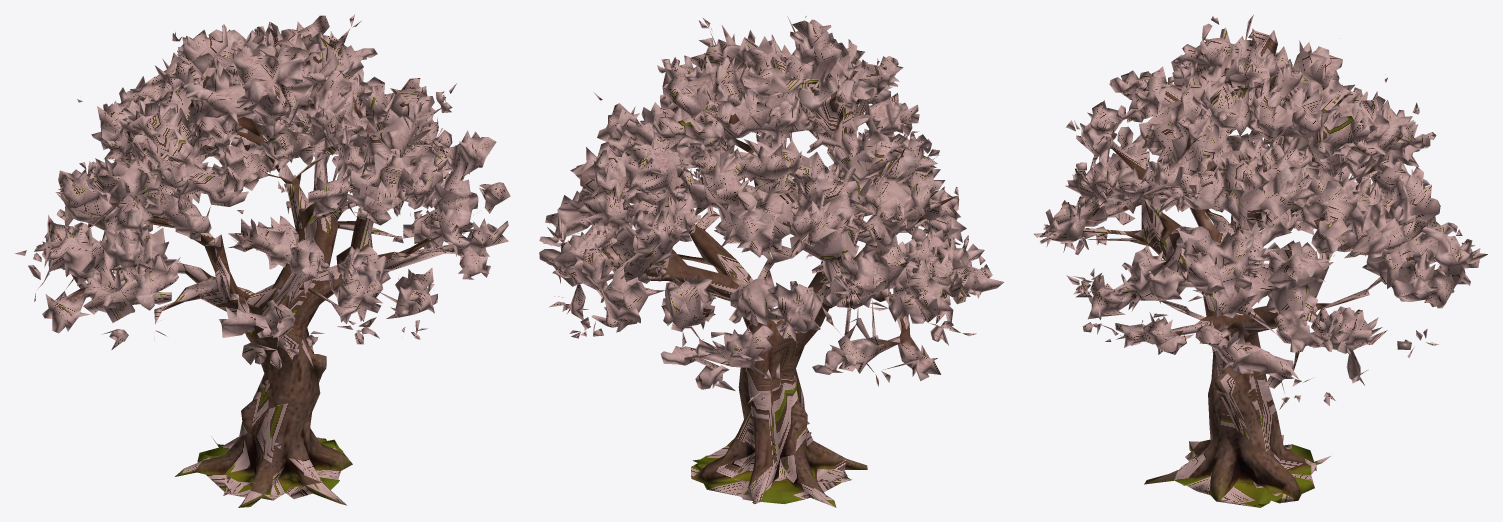
Rendered from sakura-lod.glb.
The picture shows the model from 3 angles, left to right: view 1: azimuth 30°, elevation 25°; view 2: azimuth 150°, elevation 25°; view 3: azimuth 270°, elevation 25°; orthographic projection. The views are drawn at different scales.
Visible parts, largest first — view 1: tripo_node_44f0c0a9-b564-4e52-8081-369696bd6524; view 2: tripo_node_44f0c0a9-b564-4e52-8081-369696bd6524; view 3: tripo_node_44f0c0a9-b564-4e52-8081-369696bd6524.
Boxes of the visible parts, x1=… form: tripo_node_44f0c0a9-b564-4e52-8081-369696bd6524: x1=15, y1=14, x2=510, y2=507; tripo_node_44f0c0a9-b564-4e52-8081-369696bd6524: x1=539, y1=16, x2=1004, y2=507; tripo_node_44f0c0a9-b564-4e52-8081-369696bd6524: x1=1034, y1=14, x2=1487, y2=507.
Size of the model in its own units: 0.9323 by 0.8954 by 0.8484.
Materials: 1 (1 with a texture image).
